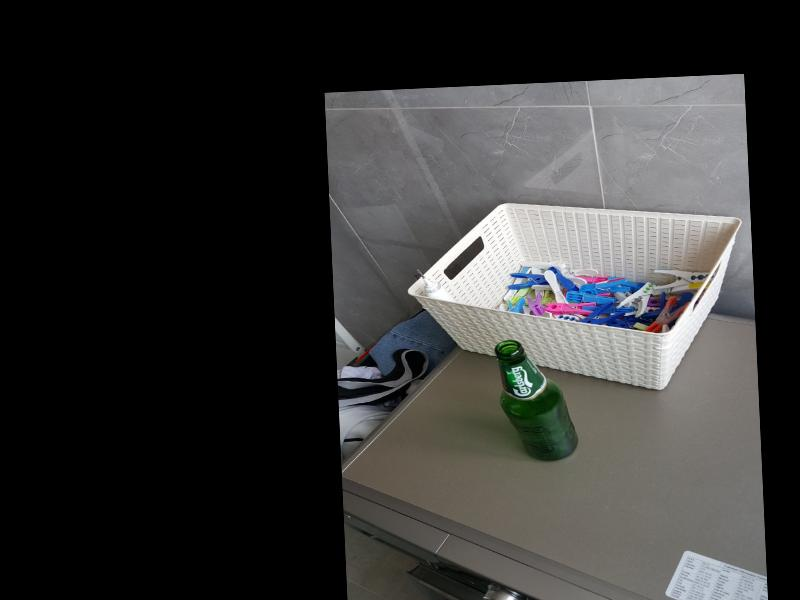Beer: (495, 336, 578, 463)
